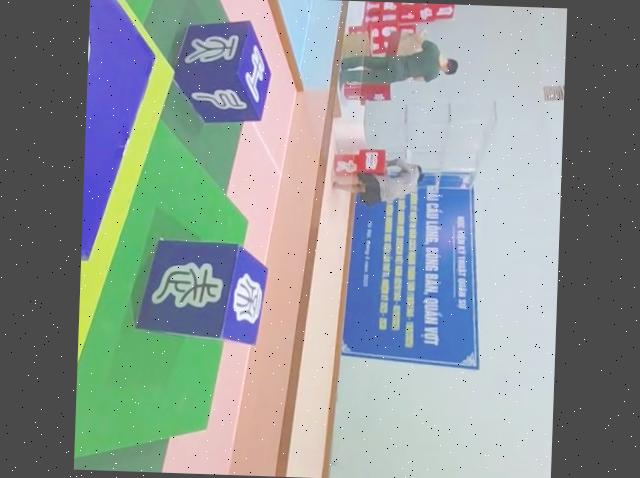R2 Fake Blue: (129, 236, 265, 344), (170, 16, 273, 125)
